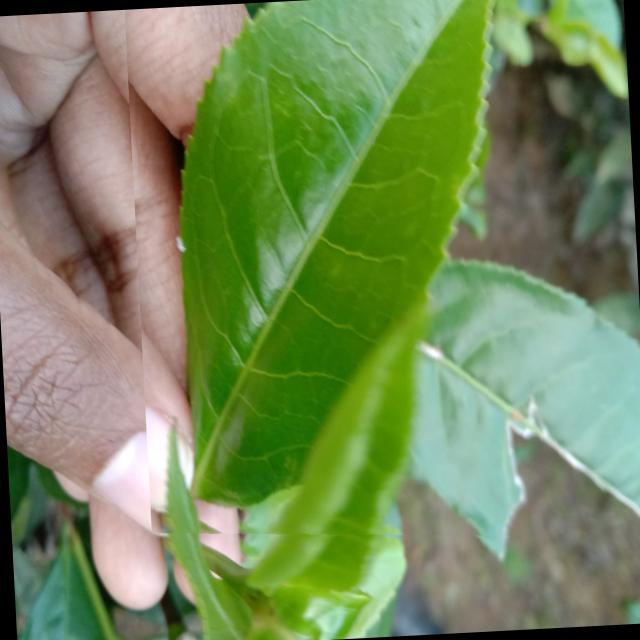Category C 4-7 days: (123, 0, 570, 558)
